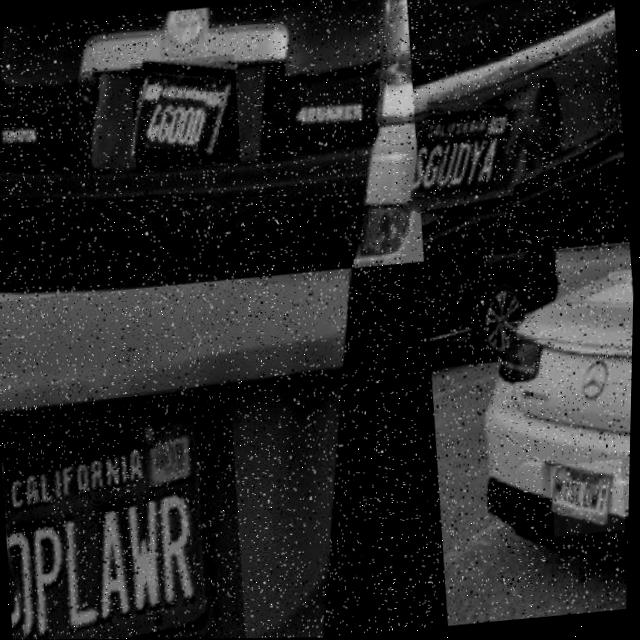LicensePlate: (0, 390, 253, 640), (405, 92, 533, 230), (128, 54, 243, 172), (556, 465, 624, 532)
